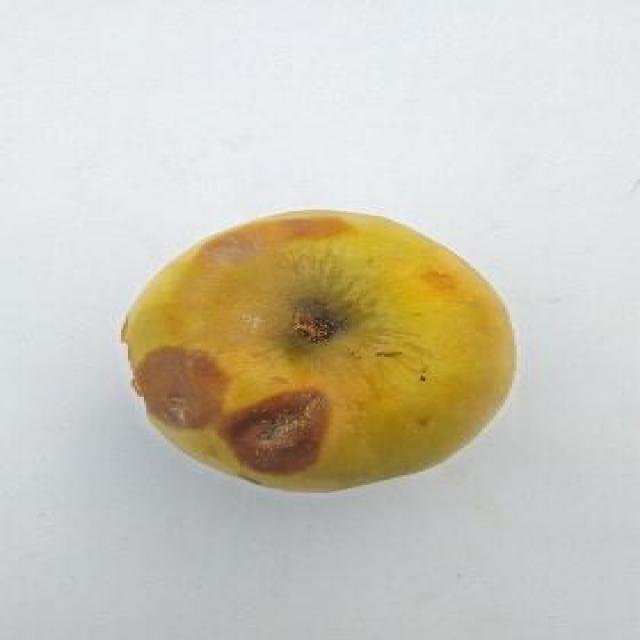Rotten: (123, 201, 520, 490)
